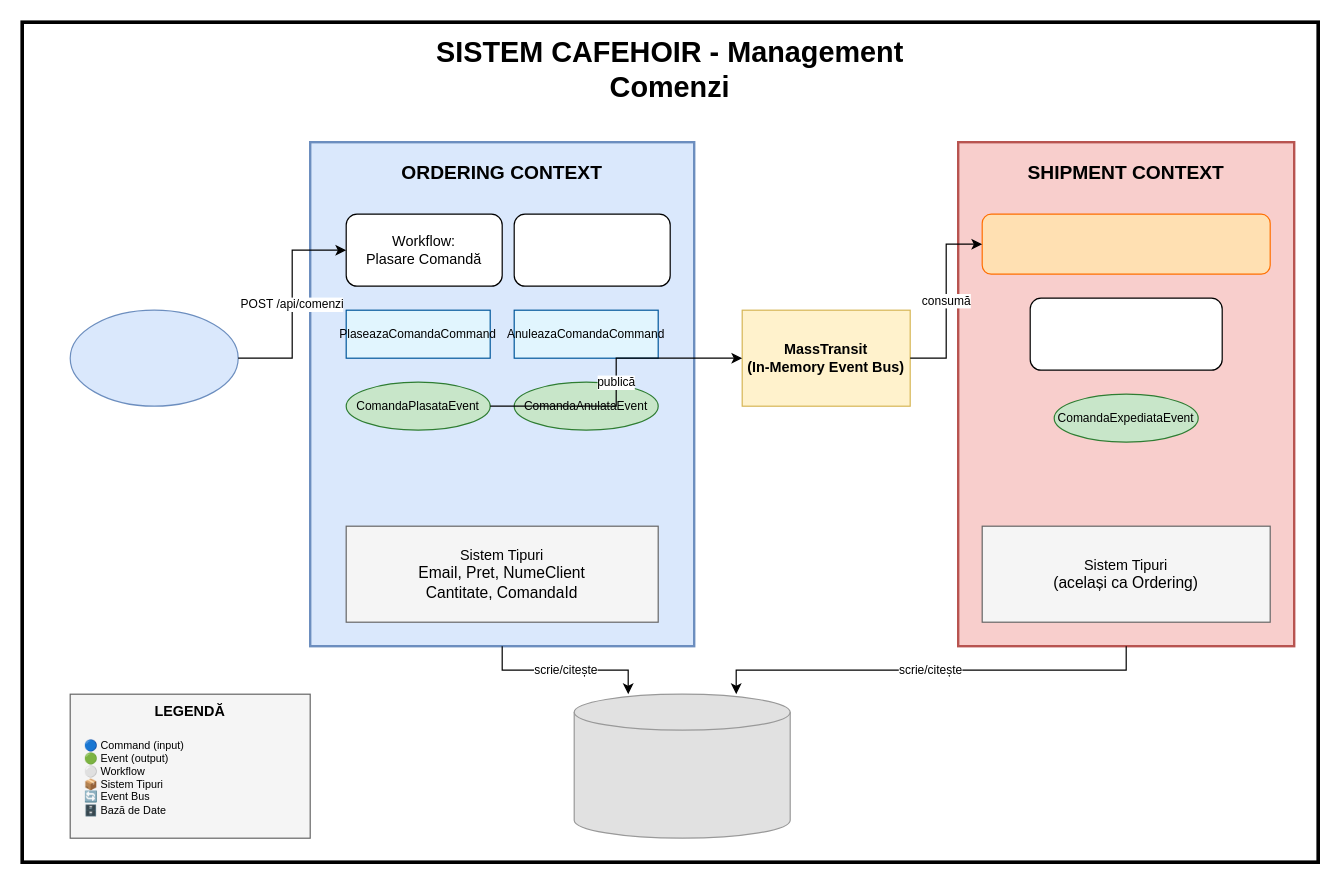
The diagram is 1340 pixels wide and 884 high, and some of its shapes have lost their labels. Each missing label, with the centre of its shape:
"Bază de Date SQL Server LocalDB Tabele: - Comenzi - Produse - LiniiComanda" goes at point 681,765.
"Client (Browser/Swagger)" goes at point 153,357.
"ComandaPlasataConsumer (ascultă evenimente)" goes at point 1125,243.
"Workflow: Anulare Comandă" goes at point 591,249.
"Workflow: Expediere Comandă" goes at point 1125,333.
